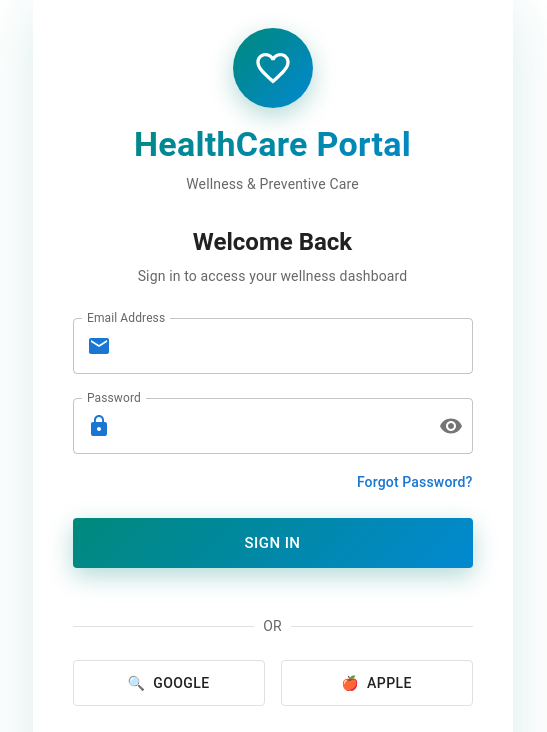
LoginScreen Component › Form Submission › shows error for invalid credentials
The width and height of the screenshot is (547, 732).
Type "wrong@test.com" into the field labelled "Email Address" at coordinates (296, 346), box [118, 318, 472, 374]
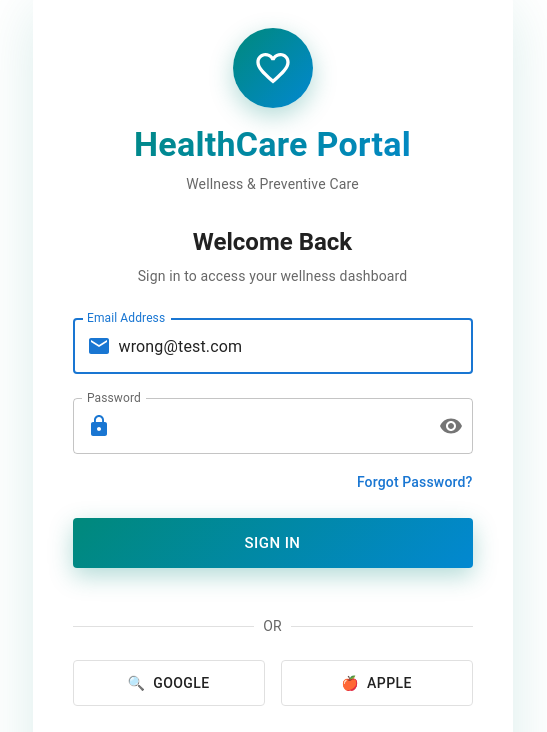
Type "WrongPassword" into the password field labelled "Password" at coordinates (270, 426), box [118, 398, 422, 454]
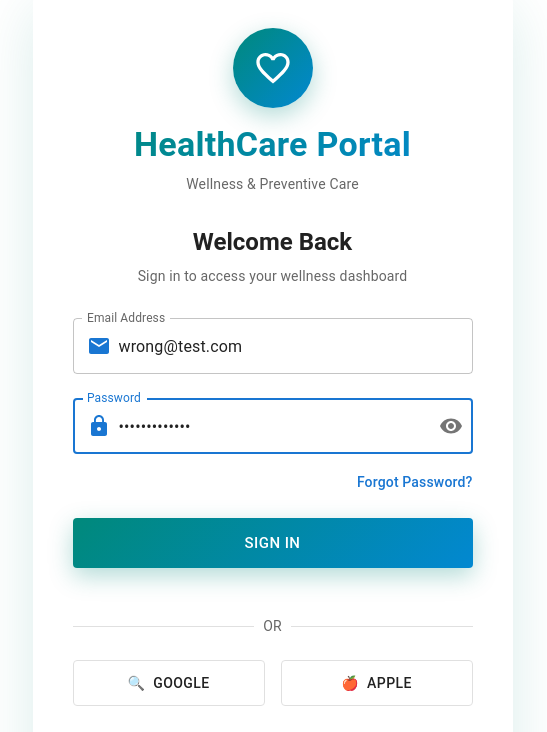
Click the button "Sign In" at coordinates (272, 543), box [72, 518, 472, 568]
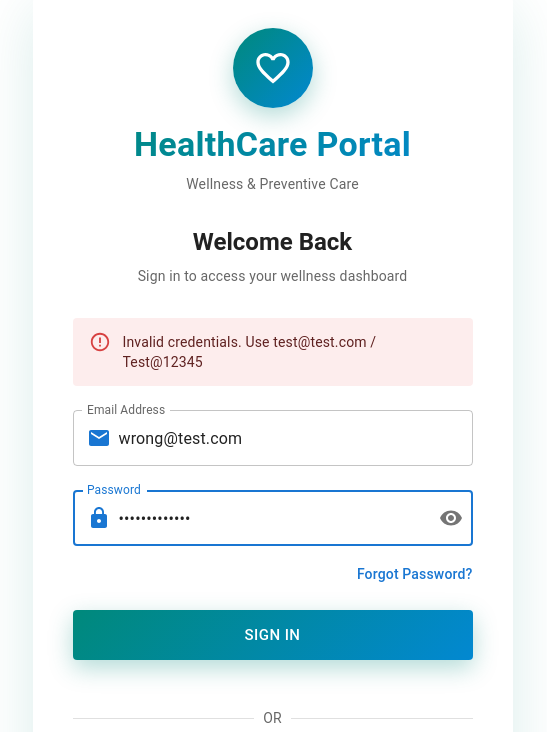
Now the text "Invalid credentials. Use test@test.com / Test@12345" is shown, box [122, 334, 376, 370]
